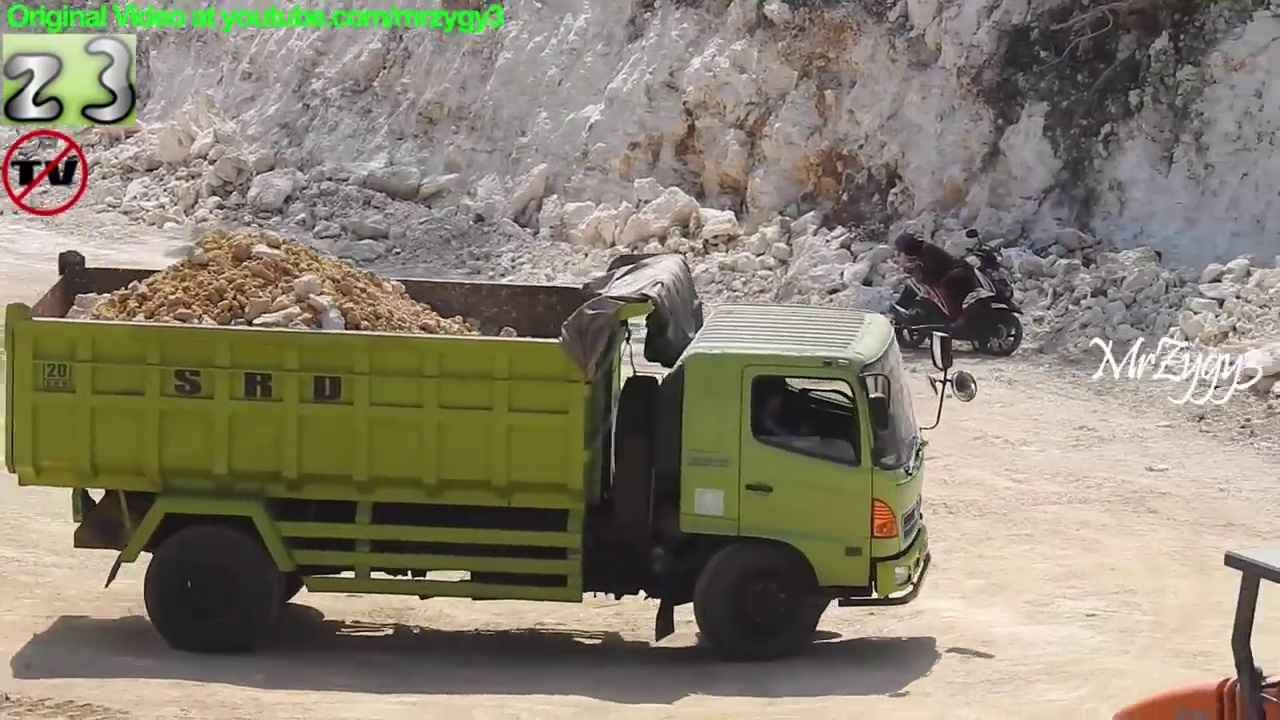compactor: (1109, 536, 1280, 720)
truck: (1, 246, 981, 668)
